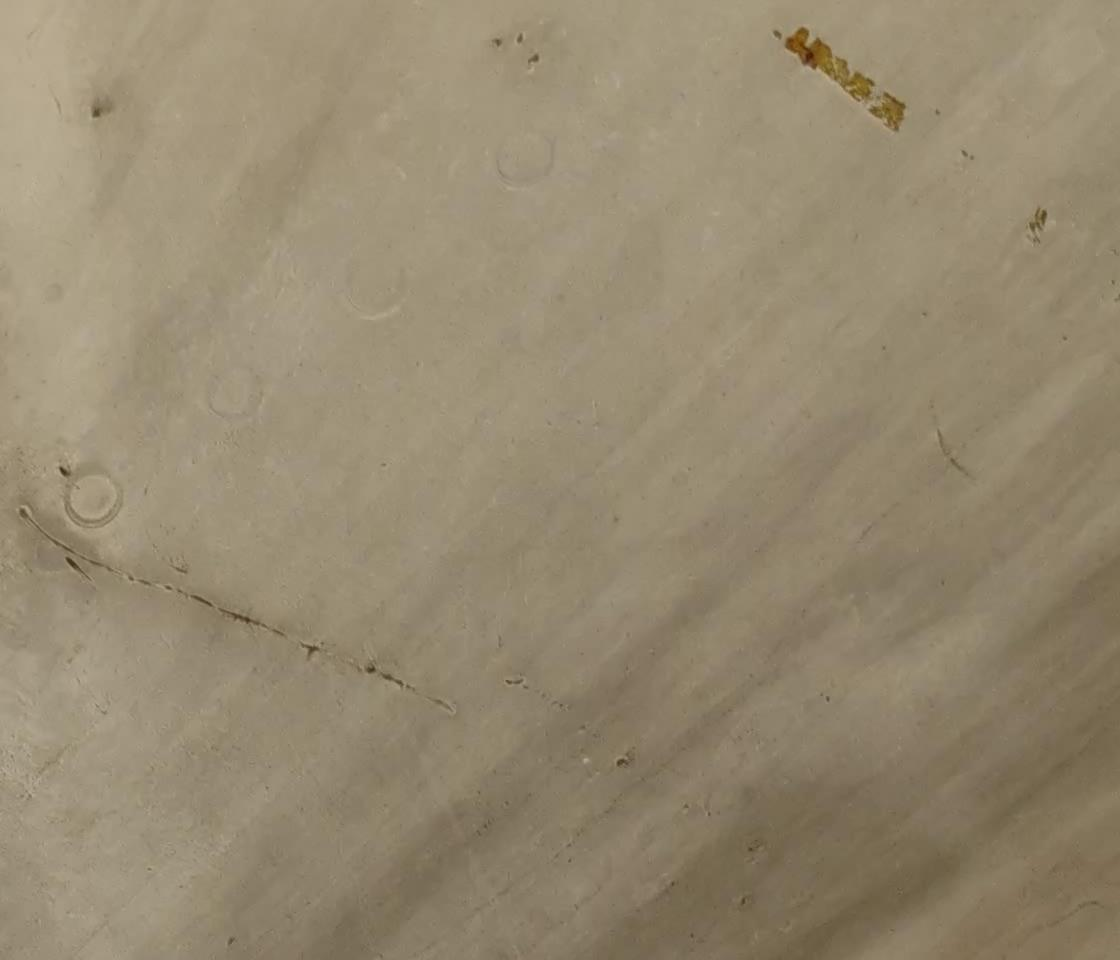rust: (787, 27, 855, 85)
